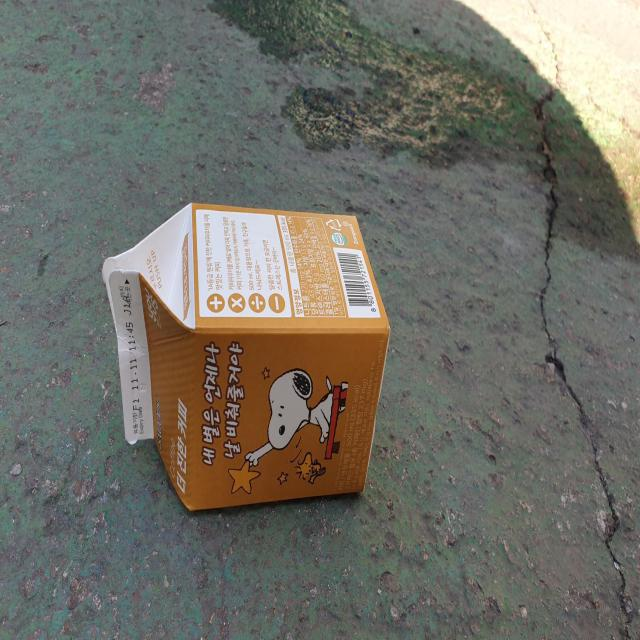paperpack: (102, 203, 390, 510)
